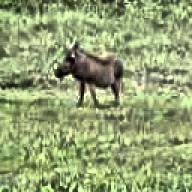boar: (53, 40, 123, 106)
